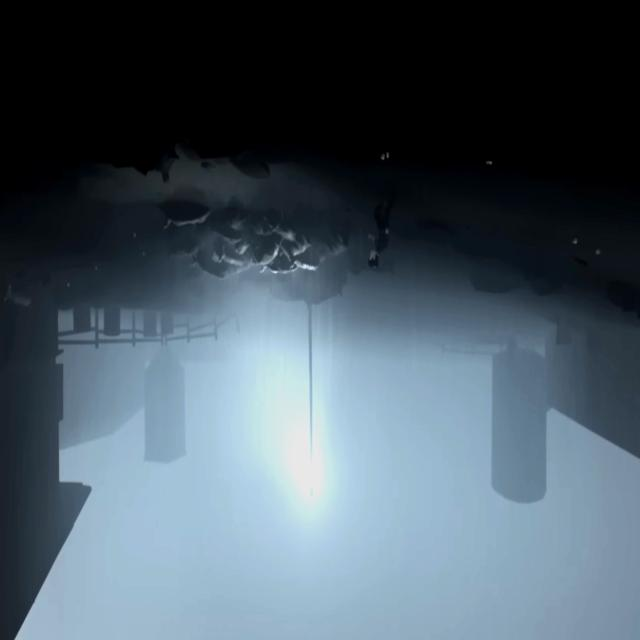boy: (368, 225, 392, 270)
